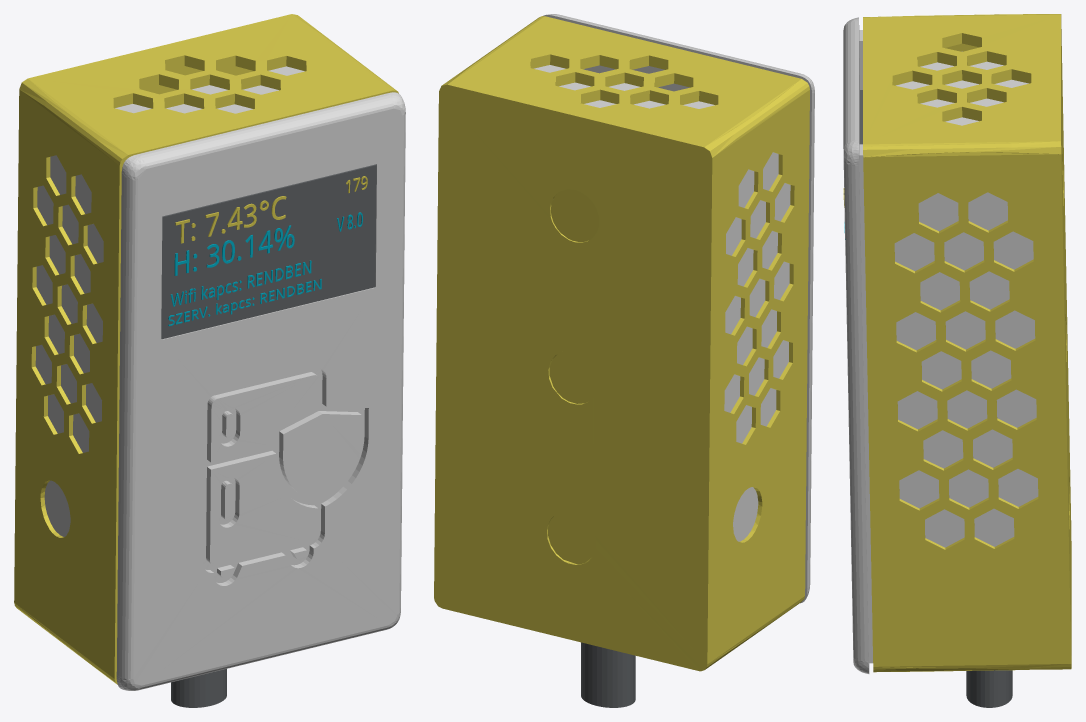
Rendered from sarga_feher.glb.
3 renders of one model, left to right at view 1: azimuth 30°, elevation 25°; view 2: azimuth 150°, elevation 25°; view 3: azimuth 270°, elevation 25°, orthographic. The views are drawn at different scales.
Parts seen in each view (by area): view 1: Mesh_Mesh_head_geo.001_lambert2SG.001; view 2: Mesh_Mesh_head_geo.001_lambert2SG.001; view 3: Mesh_Mesh_head_geo.001_lambert2SG.001.
Boxes of the visible parts, x1,y1,x2,y2 form: Mesh_Mesh_head_geo.001_lambert2SG.001: [14, 14, 405, 707]; Mesh_Mesh_head_geo.001_lambert2SG.001: [434, 14, 814, 707]; Mesh_Mesh_head_geo.001_lambert2SG.001: [843, 14, 1071, 707].
Bounding box in the file's own units: 33 × 70.15 × 23.52.
